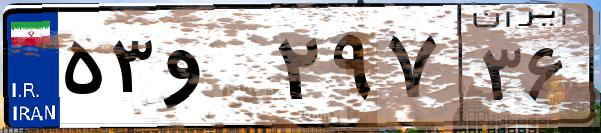2: (270, 28, 330, 110)
3: (475, 38, 525, 113), (110, 28, 158, 98)
5: (57, 26, 110, 100)
6: (525, 38, 570, 115)
7: (385, 28, 445, 110)
9: (330, 28, 385, 110)
و: (158, 20, 270, 120)
